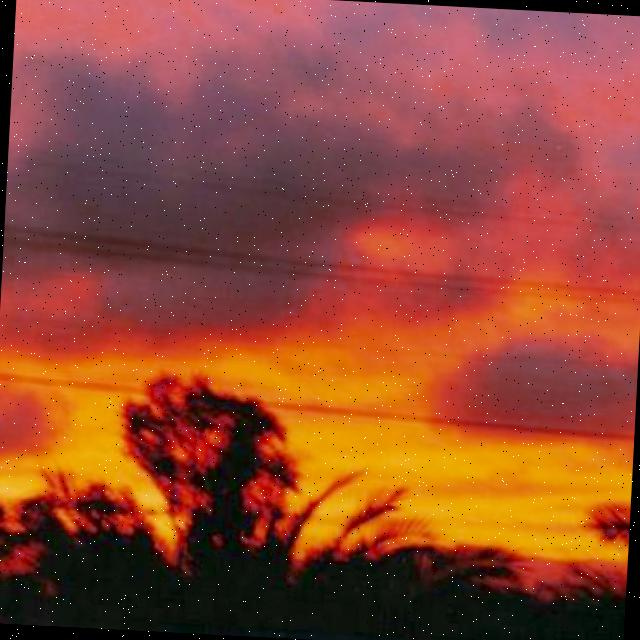St: (1, 1, 640, 387)
